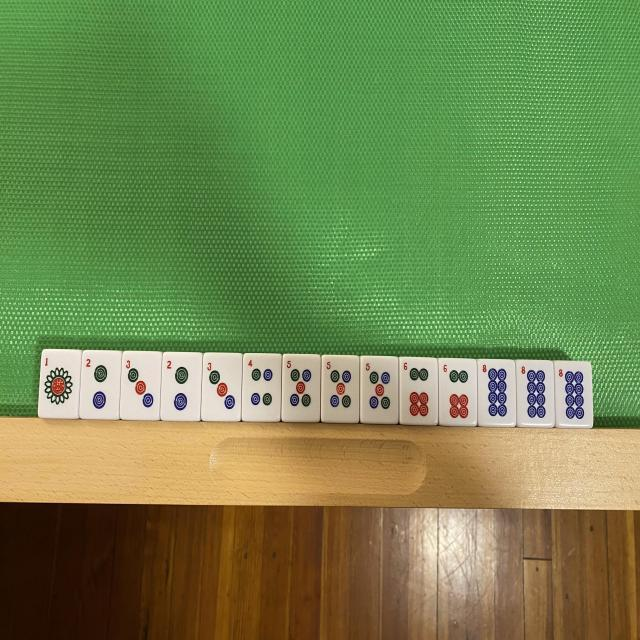sd1: (42, 351, 79, 416)
sd2: (80, 351, 121, 418), (161, 354, 201, 421)
sd3: (202, 354, 241, 421), (122, 352, 160, 420)
sd4: (242, 356, 280, 420)
sd5: (282, 356, 320, 422), (360, 357, 398, 422), (321, 357, 359, 421)
sd6: (439, 359, 476, 424), (399, 359, 436, 423)
sd8: (555, 362, 591, 426), (479, 360, 515, 424), (518, 361, 552, 424)
